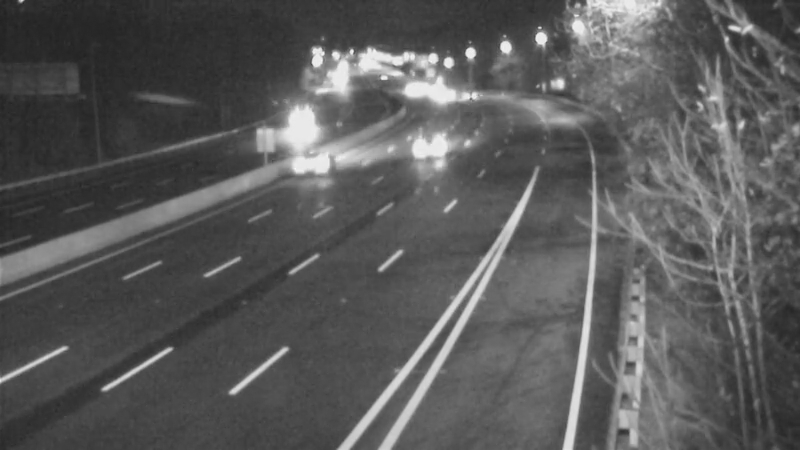vehicle: (266, 125, 346, 205), (418, 76, 468, 126), (443, 71, 493, 121), (407, 124, 457, 174), (274, 98, 324, 148)
